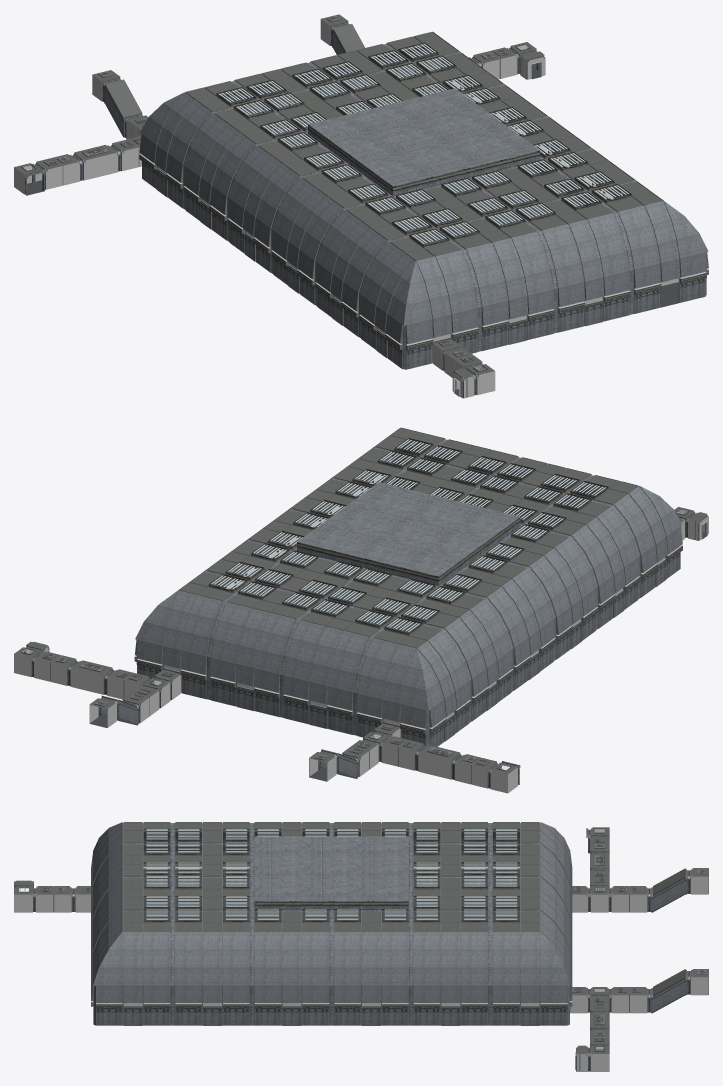
The model's file is poi_all_impl_bunker_imperial_prison_s01_r9_exercise_mess_mesh_r9.fbx.
3 renders of one model, top to bottom at view 1: azimuth 30°, elevation 25°; view 2: azimuth 150°, elevation 25°; view 3: azimuth 270°, elevation 25°, orthographic. The views are drawn at different scales.
Parts seen in each view (by area): view 1: mesh_node; view 2: mesh_node; view 3: mesh_node.
Boxes of the visible parts, bbox=[...] form: mesh_node: bbox=[14, 14, 708, 398]; mesh_node: bbox=[14, 427, 708, 793]; mesh_node: bbox=[14, 822, 708, 1071].
Bounding box in the file's own units: 108 × 20 × 140.
